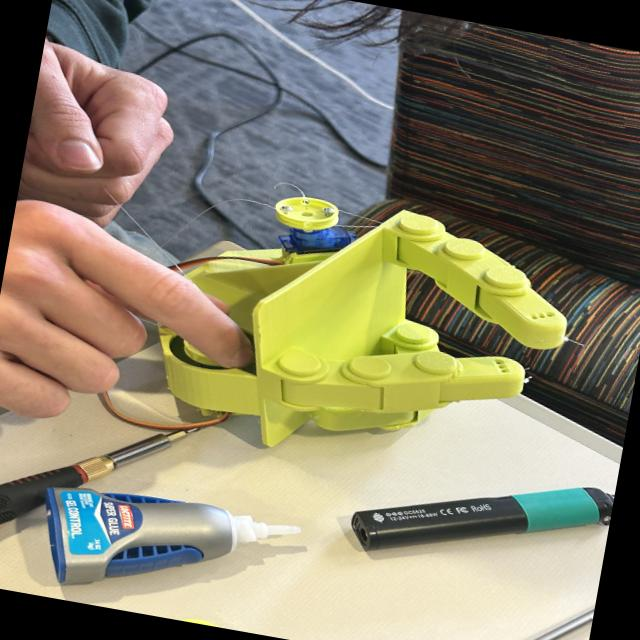prosthetic: (143, 168, 583, 496)
